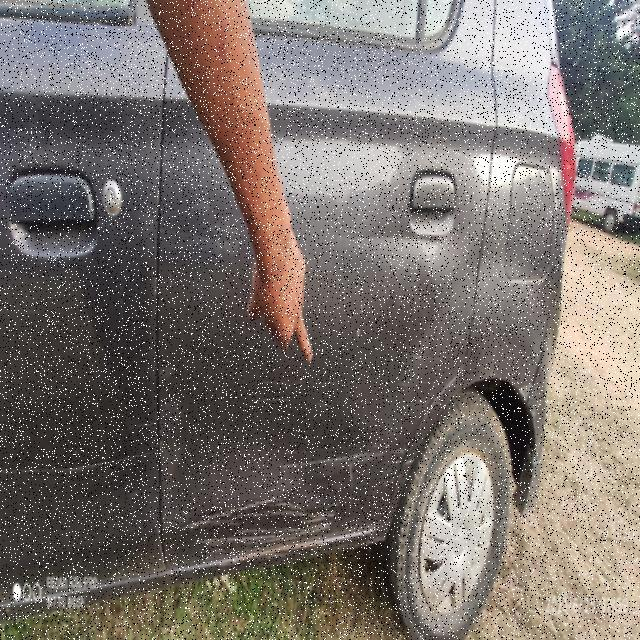doorouter-dent: (168, 29, 446, 544), (2, 21, 162, 580)
